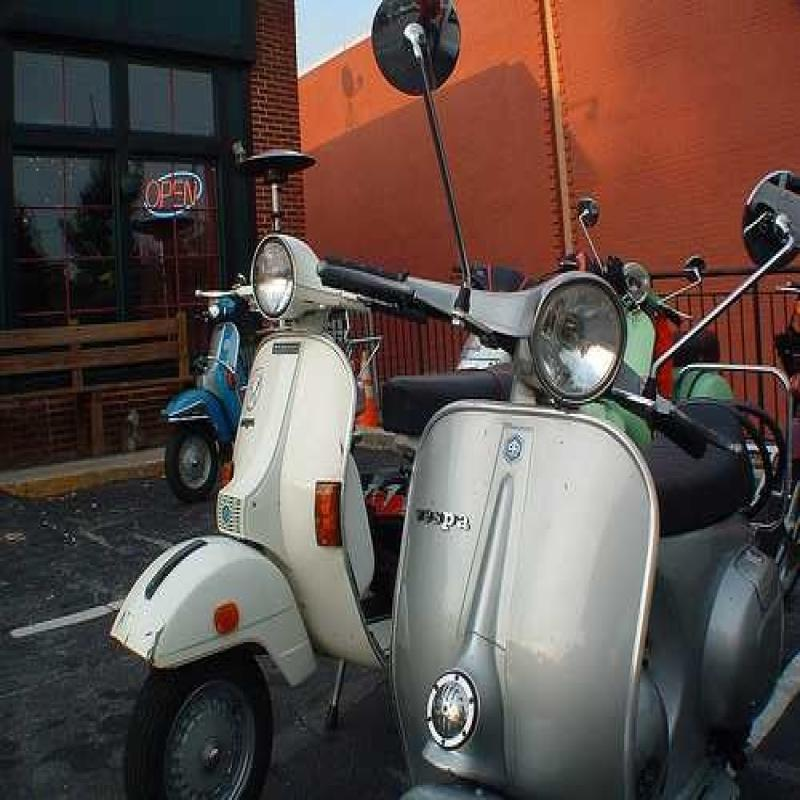bike: (397, 183, 800, 800), (160, 237, 412, 780), (166, 282, 272, 484)
